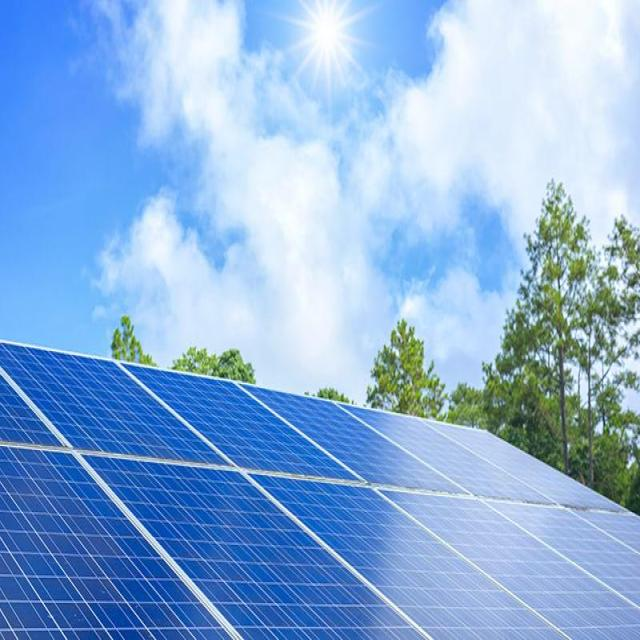clean-solar-panel: (1, 342, 640, 637)
